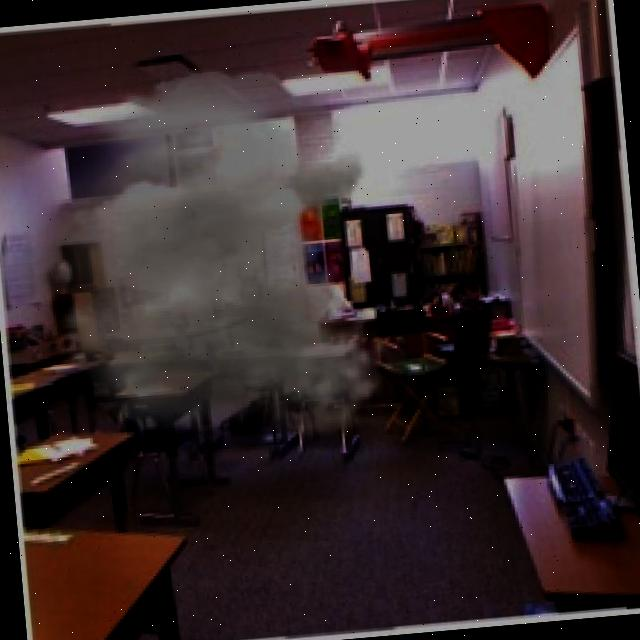smoke: (0, 55, 399, 464)
